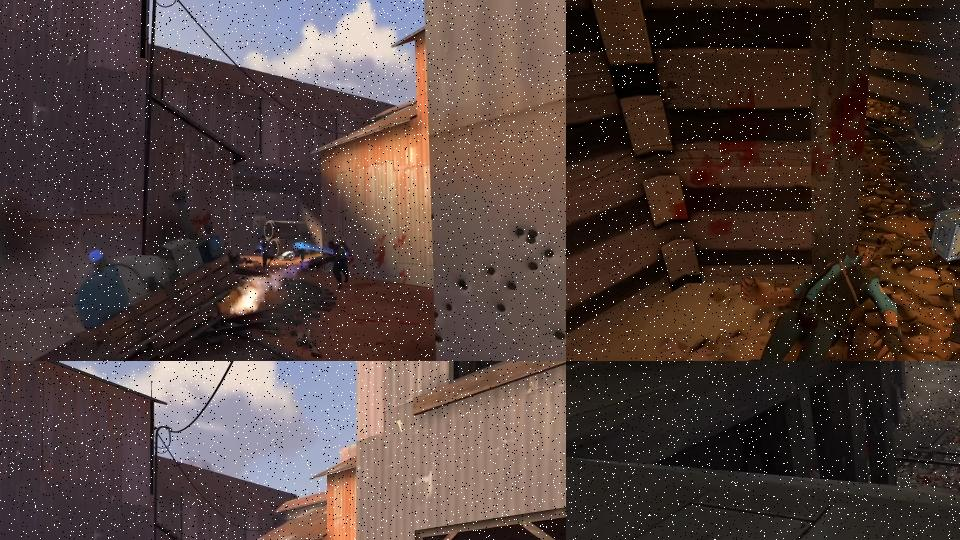Enemy: (658, 237, 906, 361), (914, 61, 960, 236), (310, 235, 362, 289), (252, 234, 278, 274), (291, 234, 308, 268), (924, 361, 945, 368)
